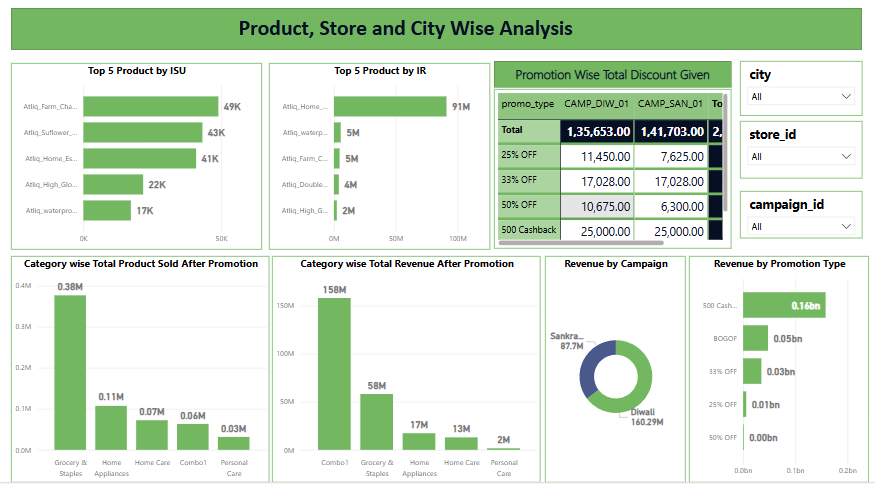

This screenshot's page, from the dashboard's own definition file:
{"tool":"powerbi","page":{"name":"Page 2","canvas":[1280,720],"ordinal":1},"visuals":[{"type":"barChart","title":"Top 5 Product by ISU","fields":{"Category":["dim_products.product_name"],"Y":["Sum(fact_events.ISU)"]},"box":[39.4,98.5,348.4,277.2],"z":0},{"type":"barChart","title":"Top 5 Product by IR","fields":{"Y":["Sum(fact_events.IR)"],"Category":["dim_products.product_name"]},"box":[394.4,100.1,325.6,276.3],"z":1000},{"type":"slicer","fields":{"Values":["dim_stores.city"]},"box":[1089,97.1,180.7,80.7],"z":2000},{"type":"slicer","fields":{"Values":["dim_stores.store_id"]},"box":[1089,186.7,180.7,85.1],"z":3000},{"type":"columnChart","title":"Category wise Total Product Sold After Promotion ","fields":{"Category":["dim_products.category"],"Y":["Sum(fact_events.Actual_QS_after_promotion)"]},"box":[12,385.4,382.4,334.6],"z":4000},{"type":"columnChart","title":"Category wise Total Revenue After Promotion ","fields":{"Category":["dim_products.category"],"Y":["Sum(fact_events.revenue_after_promo)"]},"box":[397.3,385.4,397.3,334.6],"z":5000},{"type":"barChart","title":"Revenue by Promotion Type","fields":{"Category":["fact_events.promo_type"],"Y":["Sum(fact_events.revenue_after_promo)"]},"box":[1014.3,385.4,265.9,334.6],"z":6000},{"type":"pivotTable","fields":{"Rows":["fact_events.promo_type"],"Columns":["fact_events.campaign_id"],"Values":["Sum(fact_events.Discount)"]},"box":[725.6,139.4,351.4,236.3],"z":7000},{"type":"shape","box":[725.6,96.9,351.4,39.4],"z":8000},{"type":"textbox","box":[736.2,98.5,330.2,37.9],"z":9000},{"type":"shape","box":[28.8,19.7,1240.6,62.1],"z":10000},{"type":"textbox","box":[72.7,25.8,1149.7,50],"z":11000},{"type":"slicer","fields":{"Values":["fact_events.campaign_id"]},"box":[1089,289.8,180.7,70.2],"z":12000},{"type":"donutChart","title":"Revenue by Campaign","fields":{"Category":["dim_campaigns.campaign_name"],"Y":["_measure.Total Revenue after promotion"]},"box":[800.7,385.4,207.6,334.6],"z":13000}]}

Visuals, with their boxes in screenshot pixels (x1, y1, x2, y2), scaled from the page's 1280x720 canvas onto the 875x484 screenshot:
"Top 5 Product by ISU" barChart: (x1=27, y1=66, x2=265, y2=253)
"Top 5 Product by IR" barChart: (x1=270, y1=67, x2=492, y2=253)
slicer - dim_stores.city: (x1=744, y1=65, x2=868, y2=120)
slicer - dim_stores.store_id: (x1=744, y1=126, x2=868, y2=183)
"Category wise Total Product Sold After Promotion " columnChart: (x1=8, y1=259, x2=270, y2=483)
"Category wise Total Revenue After Promotion " columnChart: (x1=272, y1=259, x2=543, y2=483)
"Revenue by Promotion Type" barChart: (x1=693, y1=259, x2=874, y2=483)
pivotTable - fact_events.promo_type x fact_events.campaign_id: (x1=496, y1=94, x2=736, y2=253)
shape: (x1=496, y1=65, x2=736, y2=92)
textbox: (x1=503, y1=66, x2=729, y2=92)
shape: (x1=20, y1=13, x2=868, y2=55)
textbox: (x1=50, y1=17, x2=836, y2=51)
slicer - fact_events.campaign_id: (x1=744, y1=195, x2=868, y2=242)
"Revenue by Campaign" donutChart: (x1=547, y1=259, x2=689, y2=483)
